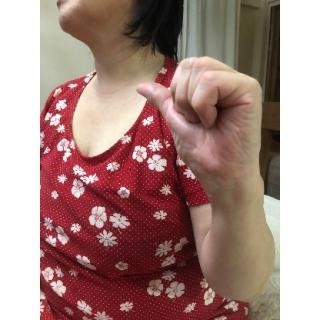WAW: (129, 51, 268, 187)
